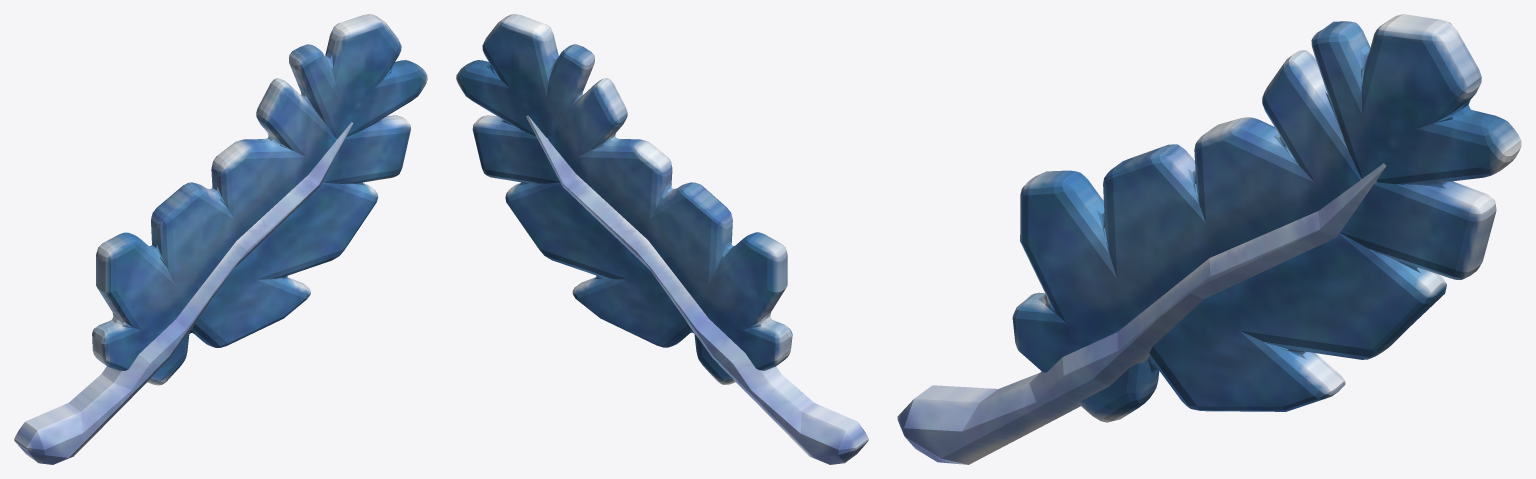
File: feather.fbx
3 views of the same model, side by side, from view 1: azimuth 30°, elevation 25°; view 2: azimuth 150°, elevation 25°; view 3: azimuth 330°, elevation 25° (orthographic). The views are drawn at different scales.
Visible parts, largest first — view 1: feather, feather stick; view 2: feather, feather stick; view 3: feather, feather stick.
Boxes of the visible parts, x1,y1,x2,y2 form: feather: (92, 14, 427, 385); feather stick: (14, 122, 353, 464); feather: (456, 14, 792, 384); feather stick: (526, 115, 868, 464); feather: (1012, 14, 1521, 422); feather stick: (897, 163, 1386, 464).
Size of the model in its own units: 121 by 104 by 13.4.
